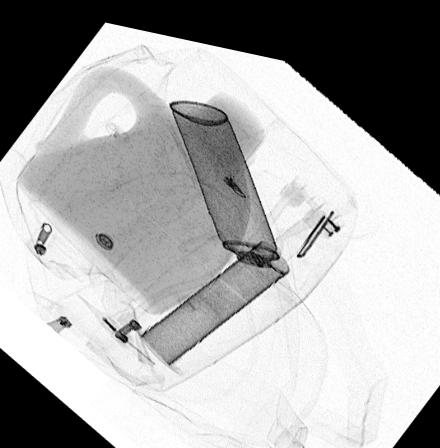Sprayer: (168, 90, 295, 290)
